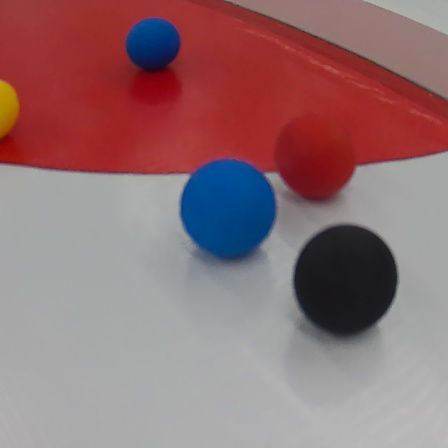black: (290, 224, 399, 335)
blue: (174, 160, 278, 260), (124, 18, 181, 70)
red: (274, 115, 358, 199)
red_base: (0, 0, 445, 170)
yellow: (0, 78, 20, 141)
